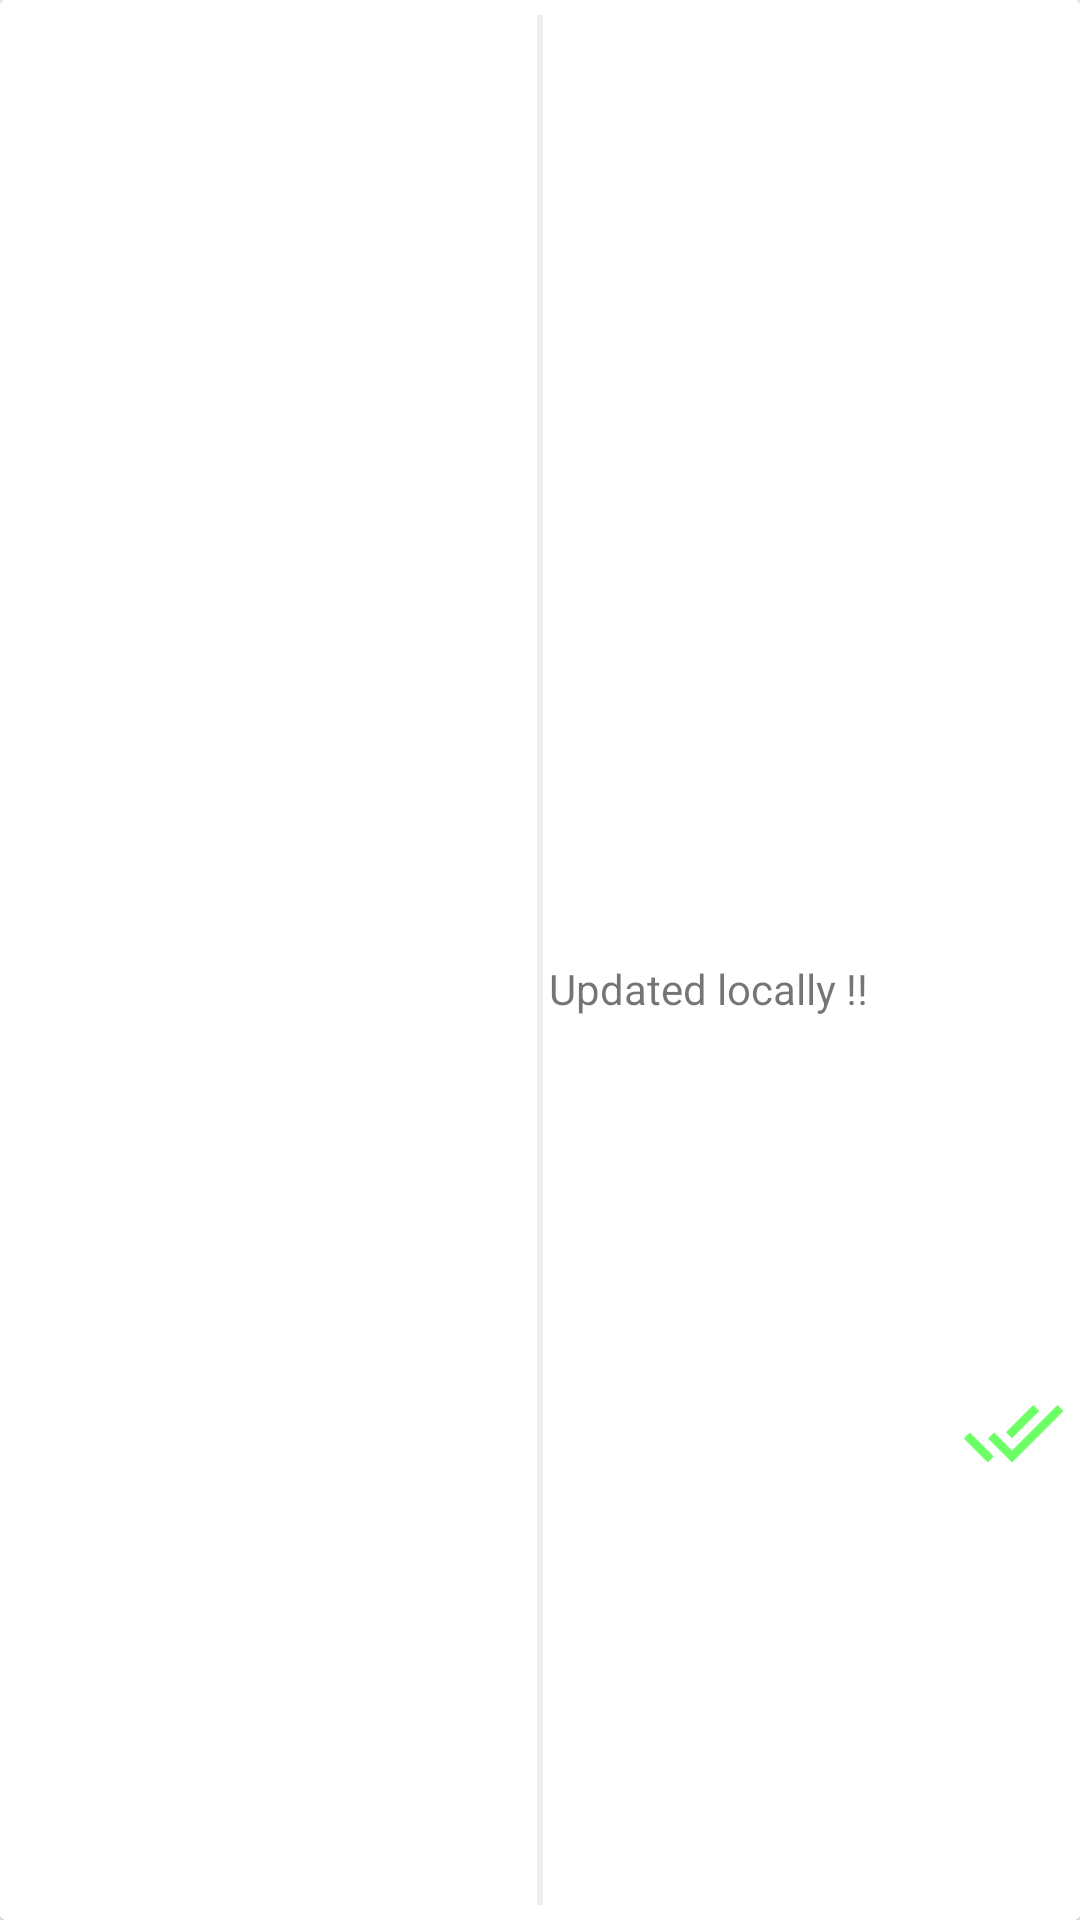

Icons on this 1080w x 1920h Android screen, each with its box as (x1, y1, x2, y2):
done: (964, 1405, 1063, 1463)
